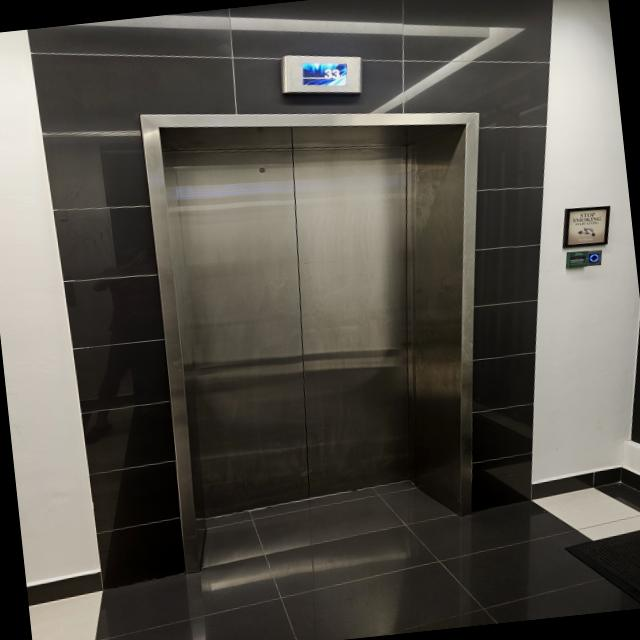elevator: (136, 78, 524, 556)
footpath: (42, 501, 640, 640)
